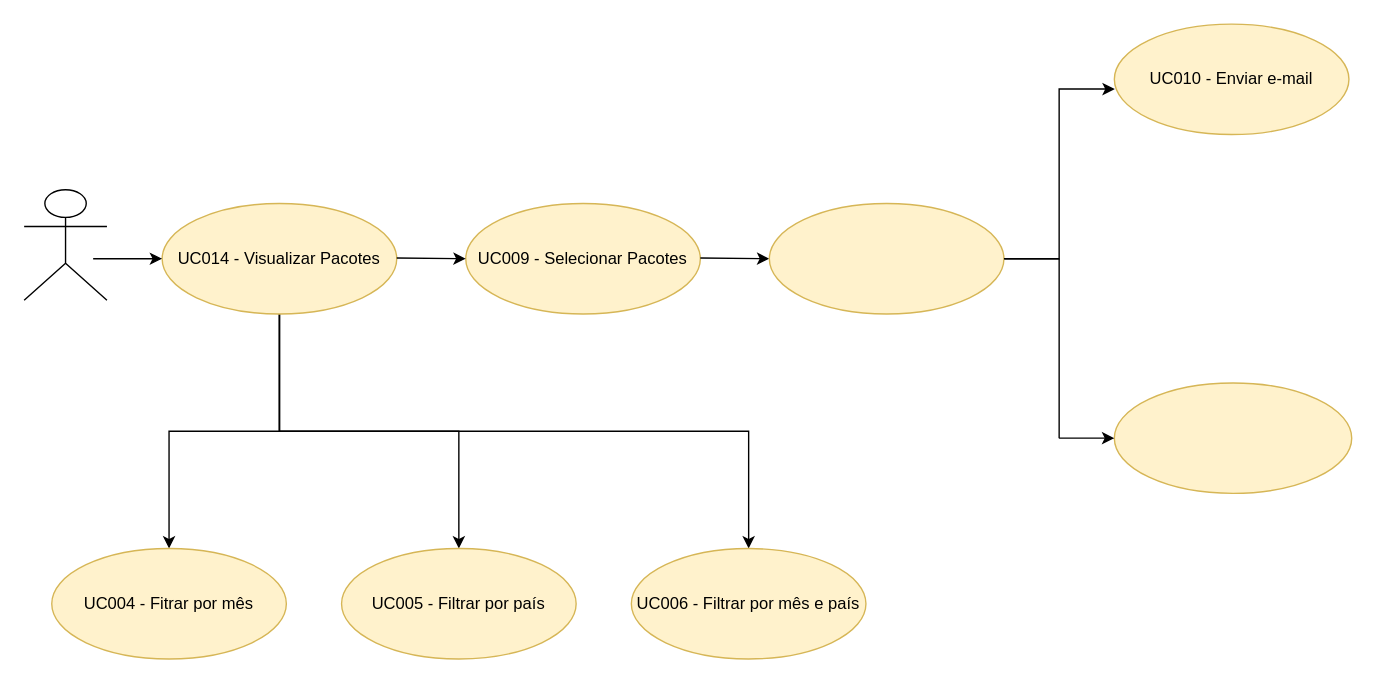
Some shapes in this 1376 by 683 pixel diagram are drawn without their labels. The shapes that lost their labels are listed below. From the top down, each one's centre as x and y in pixels, then its label:
At point (65, 244): "Cliente".
At point (886, 258): "UC013 - Detalhes Pacote".
At point (1232, 437): "UC011 - Efetuar ligação".
